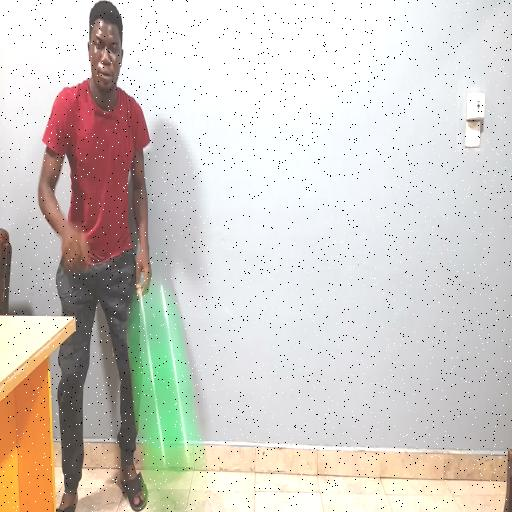plastic-ball: (127, 282, 203, 480)
